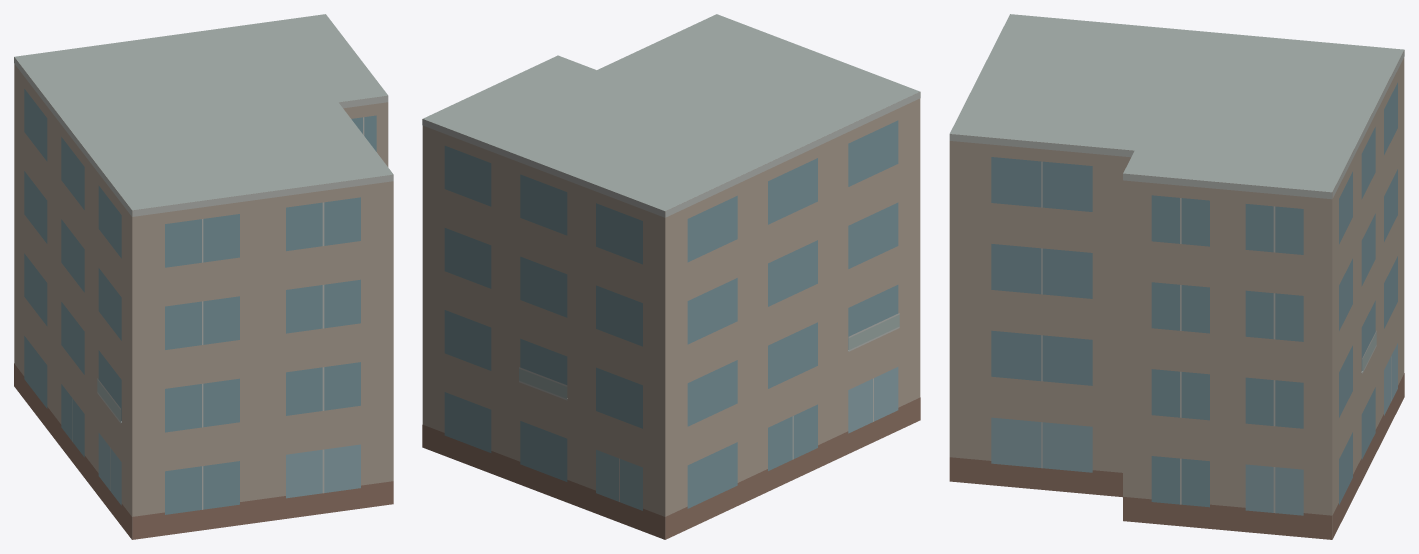
File: residential-1ff34061-5aa4-4909-bc1b-89cb7c9d88f0.glb
The picture shows the model from 3 angles, left to right: view 1: azimuth 30°, elevation 25°; view 2: azimuth 150°, elevation 25°; view 3: azimuth 270°, elevation 25°; orthographic projection. The views are drawn at different scales.
Visible parts, largest first — view 1: residential-1ff34061-5aa4-4909-bc1b-89cb7c9d88f0.tmp; view 2: residential-1ff34061-5aa4-4909-bc1b-89cb7c9d88f0.tmp; view 3: residential-1ff34061-5aa4-4909-bc1b-89cb7c9d88f0.tmp.
Part boxes in pixels (bbox=[...]): residential-1ff34061-5aa4-4909-bc1b-89cb7c9d88f0.tmp: bbox=[14, 14, 393, 539]; residential-1ff34061-5aa4-4909-bc1b-89cb7c9d88f0.tmp: bbox=[422, 14, 920, 539]; residential-1ff34061-5aa4-4909-bc1b-89cb7c9d88f0.tmp: bbox=[949, 14, 1404, 539].
Size of the model in its own units: 13.44 by 12.2 by 14.48.
